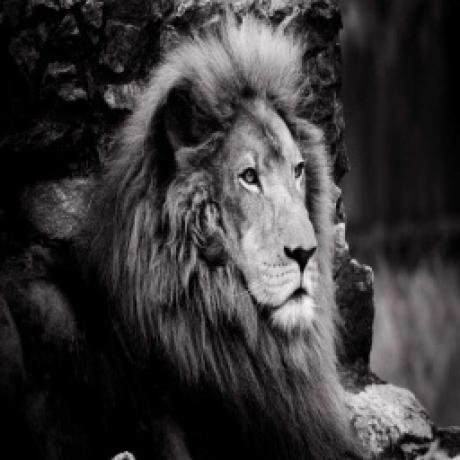Lion: (85, 11, 367, 460)
